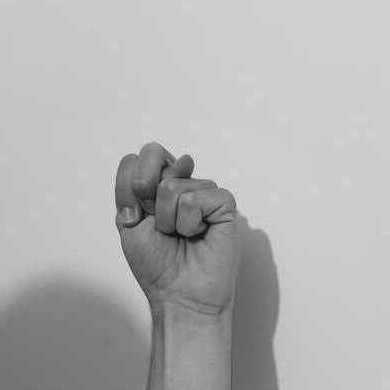N: (113, 143, 241, 319)
